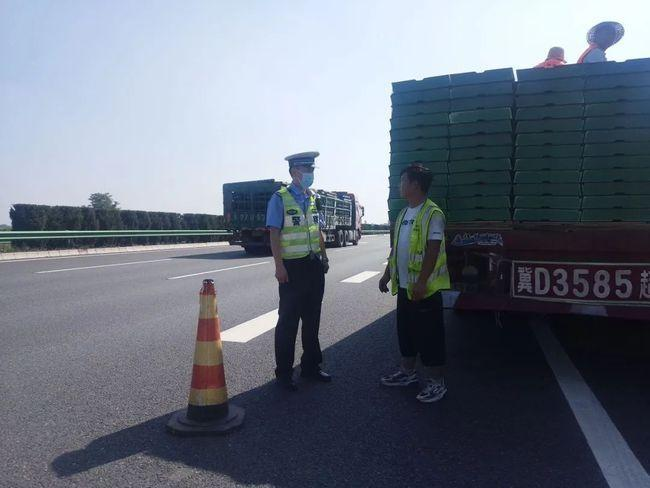cone_barrel: (169, 279, 238, 434)
